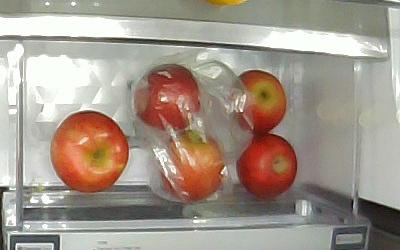apple: (50, 110, 129, 193), (236, 135, 298, 201)
apple_vinyl: (162, 129, 225, 203), (134, 64, 200, 130), (228, 70, 288, 133)
